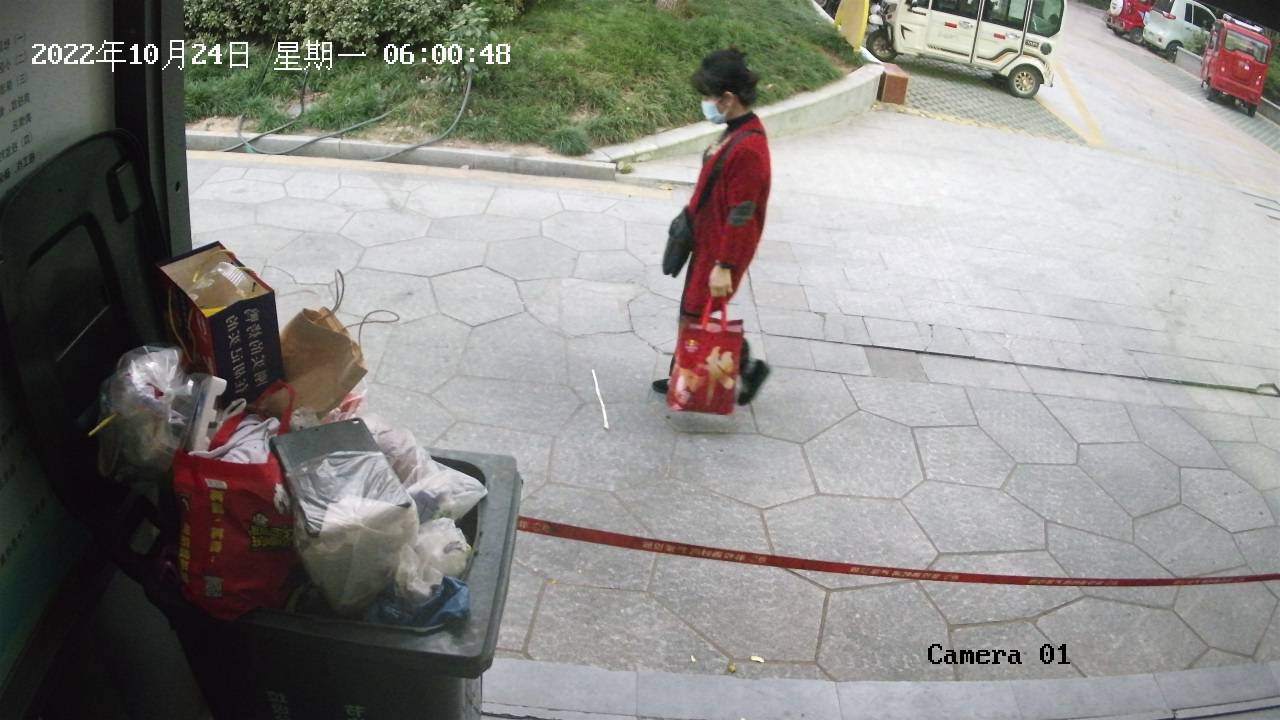garbage-bag: (661, 286, 750, 423)
person: (646, 40, 778, 432)
